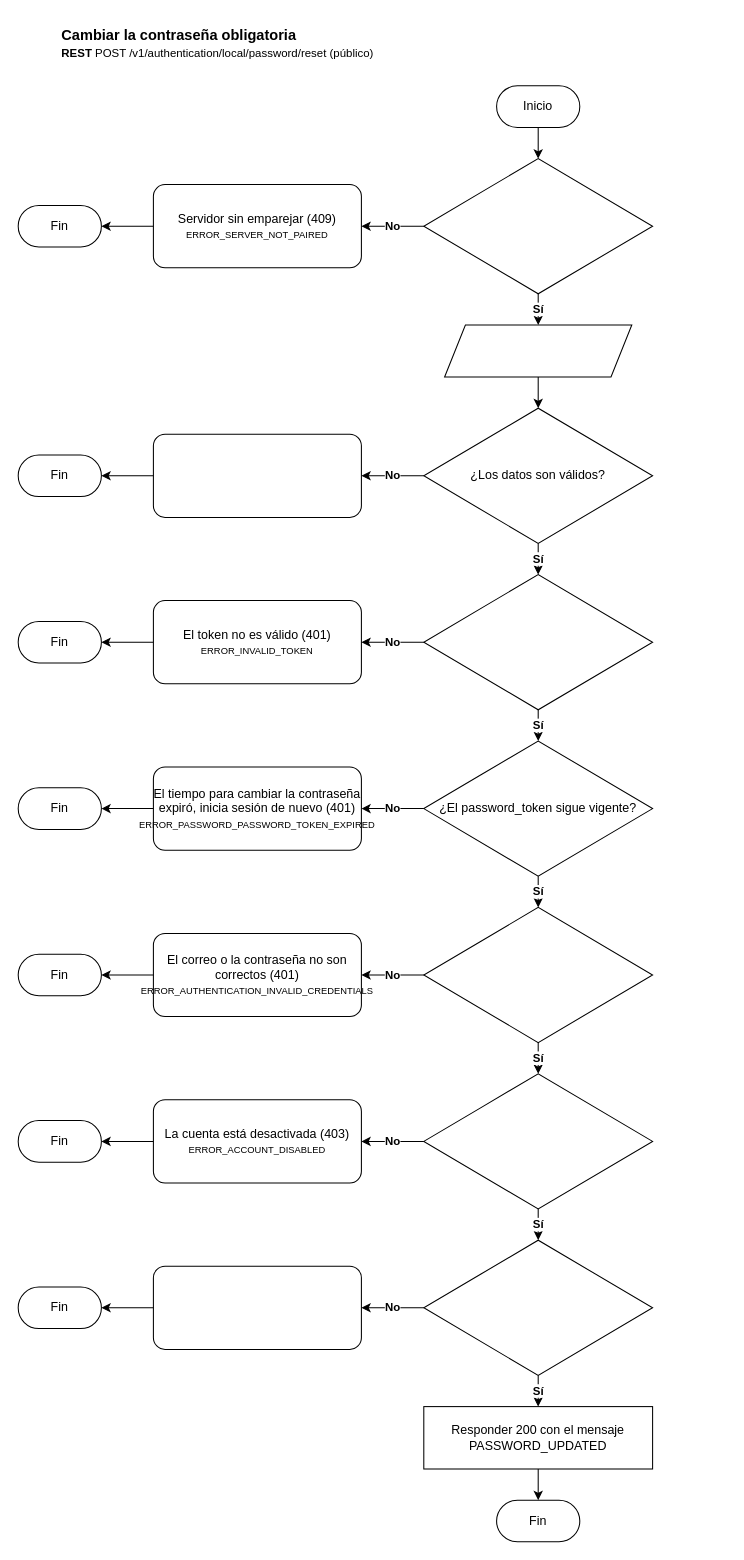
Some shapes in this 744 by 1560 pixel diagram are drawn without their labels. Here are the shapes that lost their labels. From the top down, the centre of each, then its label:
pixel 538 226: ¿El servidor ya se emparejó alguna vez (pairing_status distinto de unpaired)?
pixel 538 350: Recibir datos
pixel 256 475: Datos inválidos (400) ERROR_BAD_REQUEST
pixel 538 642: ¿El password_token es válido?
pixel 538 974: ¿Existe el empleado y la contraseña es correcta?
pixel 538 1141: ¿La cuenta está activa?
pixel 256 1307: No tienes permiso para realizar esta acción (403) ERROR_FORBIDDEN
pixel 538 1307: ¿El token es de cambio de contraseña de este empleado?
